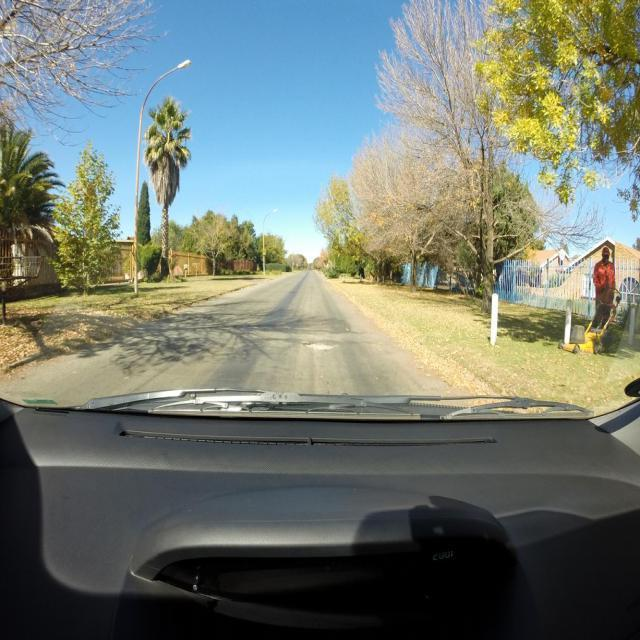pothole: (303, 342, 339, 350)
